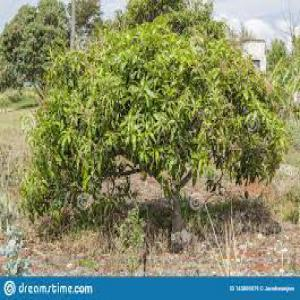Tree: (23, 9, 288, 240)
